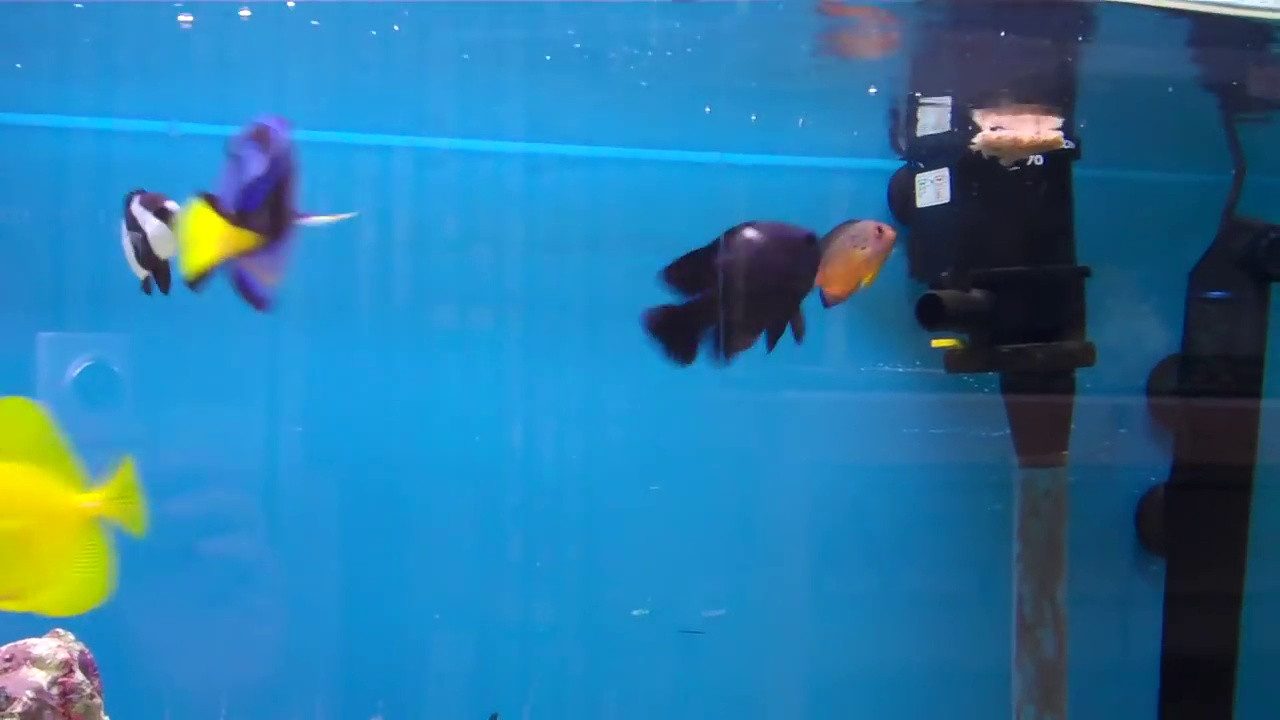blue tang surgeonfish: (158, 98, 331, 313)
